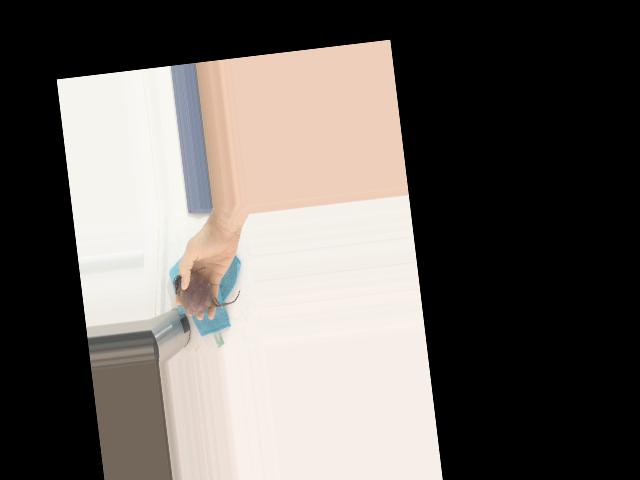beet: (172, 264, 242, 318)
